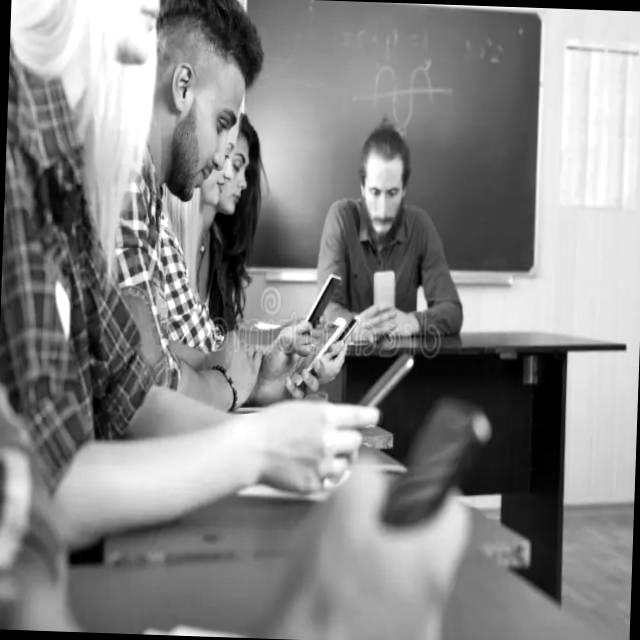phone: (380, 392, 492, 530), (290, 316, 346, 388), (357, 349, 415, 411), (304, 272, 342, 328)
